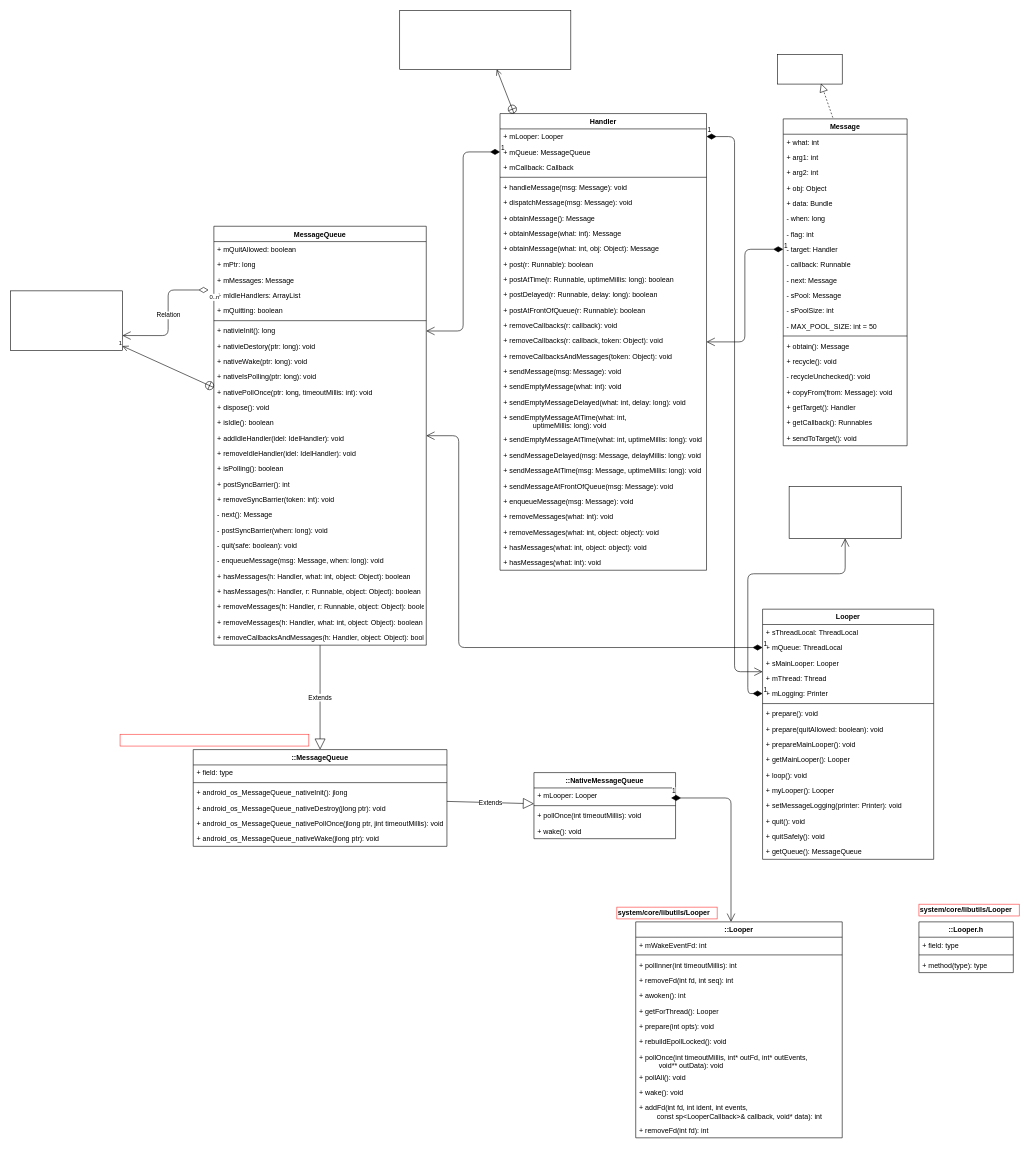
Some shapes in this 1030 by 1150 pixel diagram are drawn without their labels. Each missing label, with the centre of its shape:
"<<Interface>> Callback + field1: Type + handleMessage(msg: Message): boolean" belongs at (x=485, y=39).
"<<Interface>> IdelHandler + field2: Type + queueIdle(): void" belongs at (x=66, y=320).
"<<Interface>> Printer + println (str: String): void" belongs at (x=845, y=512).
"framework/base/core/jni/andorid_os_MessageQueue" belongs at (x=214, y=740).
"«interface» Parcelable" belongs at (x=809, y=69).
